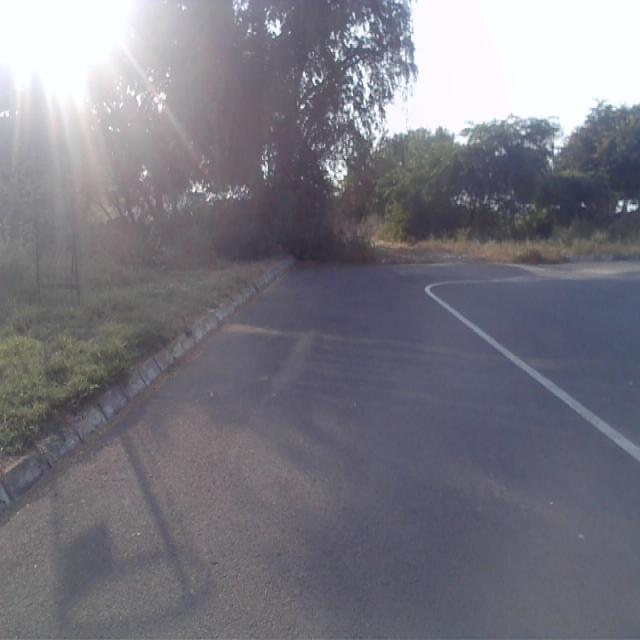lane: (0, 267, 640, 640)
